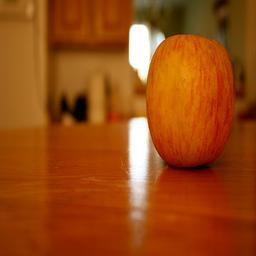apple: (146, 33, 237, 167)
